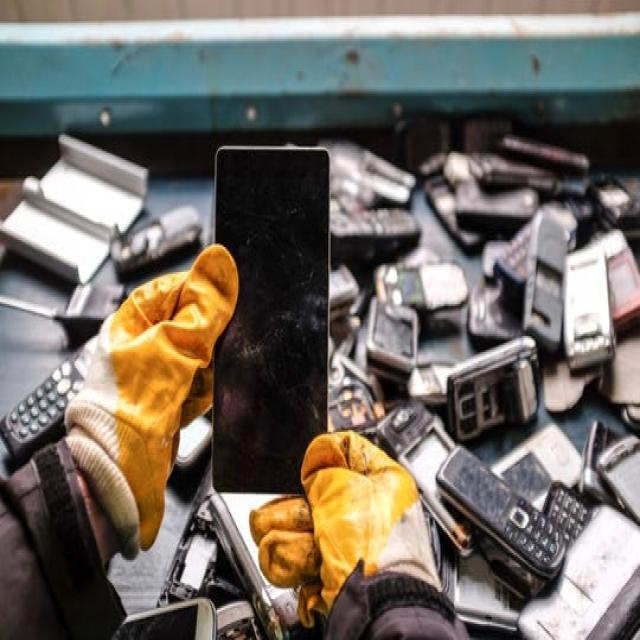Hazard: (26, 132, 640, 545)
